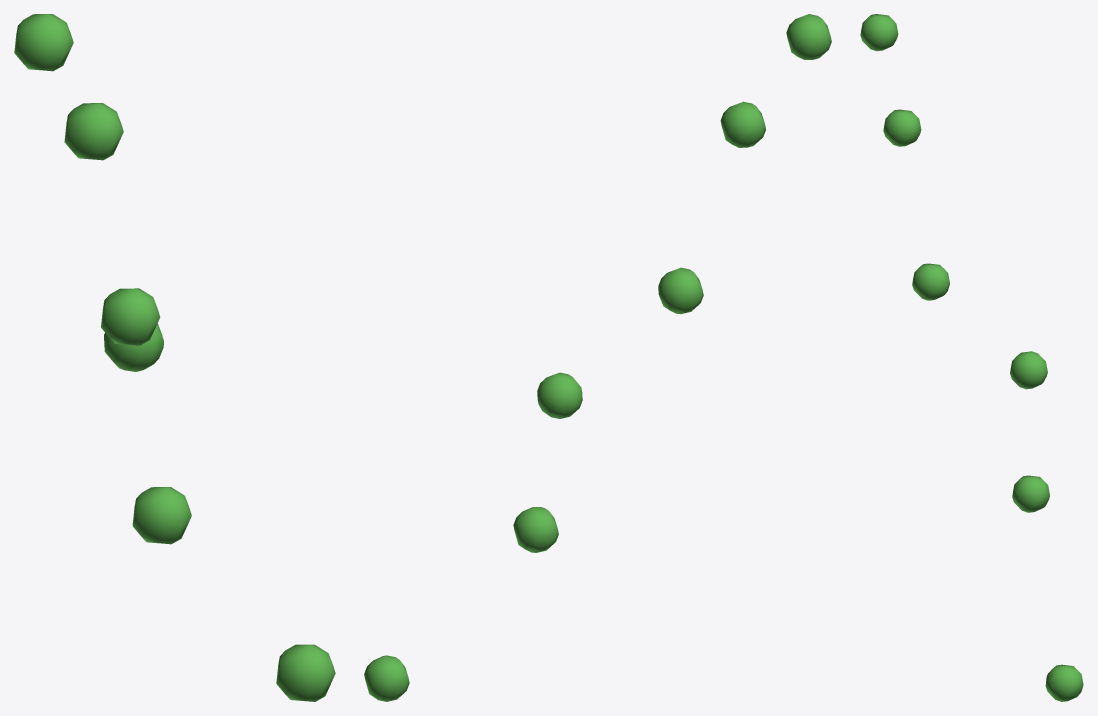
File: linfatico-posterior-axillary-nodes-l.glb
3 renders of one model, left to right at view 1: azimuth 30°, elevation 25°; view 2: azimuth 150°, elevation 25°; view 3: azimuth 270°, elevation 25°, orthographic. The views are drawn at different scales.
Visible parts, largest first — view 1: Posterior axillary nodes.l; view 2: Posterior axillary nodes.l; view 3: Posterior axillary nodes.l.
Part boxes in pixels (box(x1,y1,x2,y2)): Posterior axillary nodes.l: box(14, 14, 335, 701); Posterior axillary nodes.l: box(364, 14, 831, 701); Posterior axillary nodes.l: box(860, 14, 1083, 701).
Size of the model in its own units: 0.0225 by 0.0415 by 0.015.
